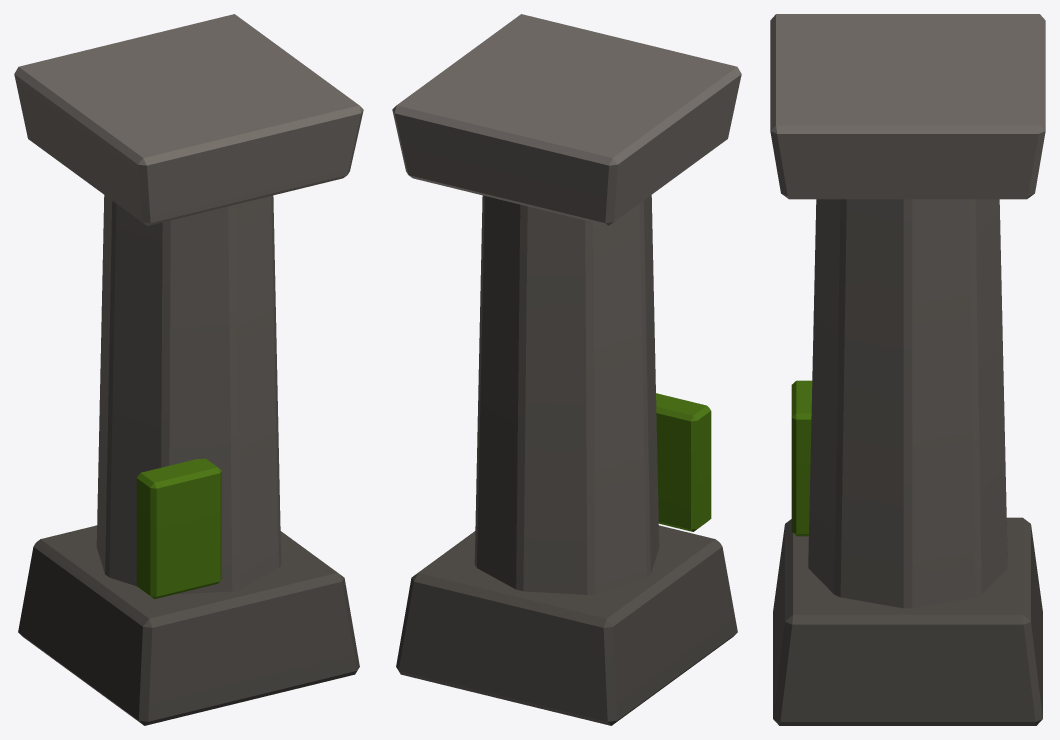
Rendered from pillar.glb.
3 views of the same model, side by side, from view 1: azimuth 30°, elevation 25°; view 2: azimuth 150°, elevation 25°; view 3: azimuth 270°, elevation 25° (orthographic). The views are drawn at different scales.
Visible parts, largest first — view 1: pillar; view 2: pillar; view 3: pillar.
Part boxes in pixels (x1,y1,x2,y2): pillar: [14, 14, 363, 725]; pillar: [392, 14, 741, 725]; pillar: [770, 14, 1045, 725].
Bounding box in the file's own units: 0.568 × 1.37 × 0.568.
